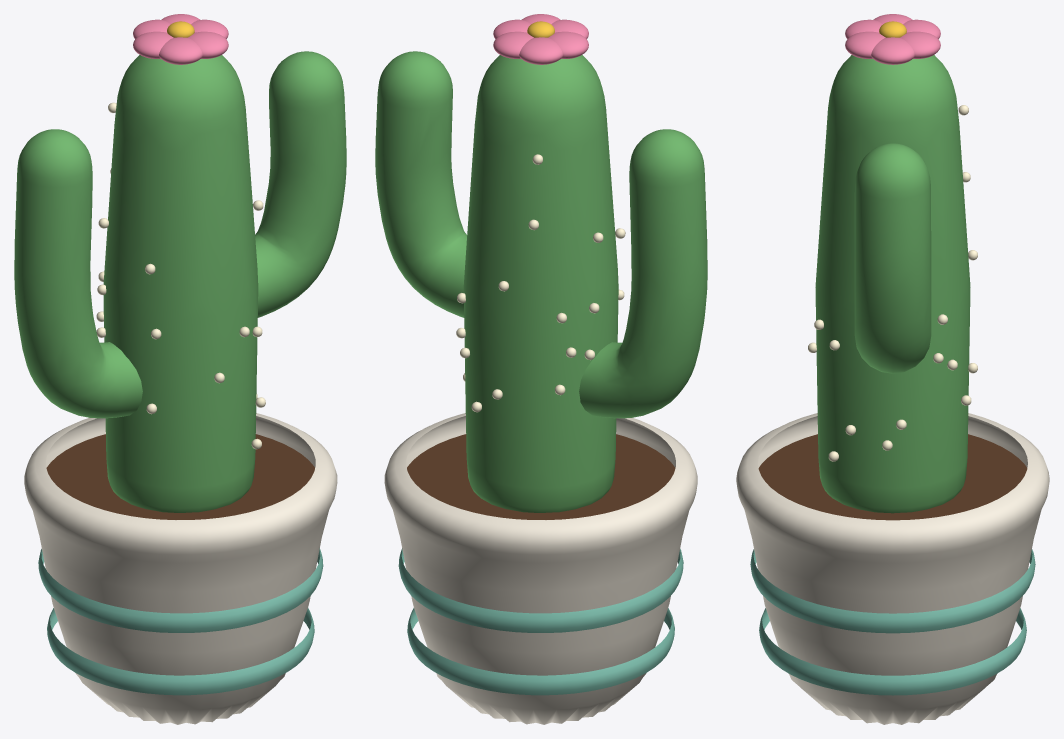
Rendered from deco_cactus.glb.
The picture shows the model from 3 angles, left to right: view 1: azimuth 30°, elevation 25°; view 2: azimuth 150°, elevation 25°; view 3: azimuth 270°, elevation 25°; orthographic projection.
Visible parts, largest first — view 1: tronco cactus, matera cactus, brazo cactus, brazo cactus.001, tierra cactus, raya matera.001, raya matera, pétalo cactus 4, pétalo cactus 3, pétalo cactus 5; view 2: tronco cactus, matera cactus, brazo cactus, brazo cactus.001, tierra cactus, raya matera.001, raya matera, pétalo cactus 2, pétalo cactus 3, pétalo cactus 1; view 3: tronco cactus, matera cactus, brazo cactus.001, tierra cactus, raya matera.001, raya matera, pétalo cactus 0, pétalo cactus 1, pétalo cactus 5.
Part boxes in pixels (x1,y1,x2,y2): tronco cactus: [103, 55, 258, 512]; matera cactus: [24, 413, 337, 724]; brazo cactus: [14, 129, 142, 418]; brazo cactus.001: [255, 51, 346, 317]; tierra cactus: [46, 434, 314, 519]; raya matera.001: [38, 548, 323, 632]; raya matera: [47, 608, 314, 695]; pétalo cactus 4: [159, 37, 202, 64]; pétalo cactus 3: [133, 31, 173, 58]; pétalo cactus 5: [188, 31, 228, 58]; tronco cactus: [463, 55, 618, 512]; matera cactus: [384, 413, 697, 724]; brazo cactus: [579, 129, 707, 418]; brazo cactus.001: [375, 51, 467, 317]; tierra cactus: [407, 434, 675, 519]; raya matera.001: [398, 548, 683, 632]; raya matera: [407, 608, 674, 695]; pétalo cactus 2: [519, 37, 562, 64]; pétalo cactus 3: [548, 31, 588, 58]; pétalo cactus 1: [493, 31, 533, 58]; tronco cactus: [815, 55, 970, 513]; matera cactus: [736, 413, 1049, 724]; brazo cactus.001: [854, 143, 931, 373]; tierra cactus: [758, 434, 1027, 520]; raya matera.001: [750, 549, 1035, 633]; raya matera: [759, 608, 1026, 695]; pétalo cactus 0: [871, 37, 914, 64]; pétalo cactus 1: [900, 31, 940, 58]; pétalo cactus 5: [845, 31, 885, 58].
Bounding box in the file's own units: 0.4102 × 0.8196 × 0.3454.
